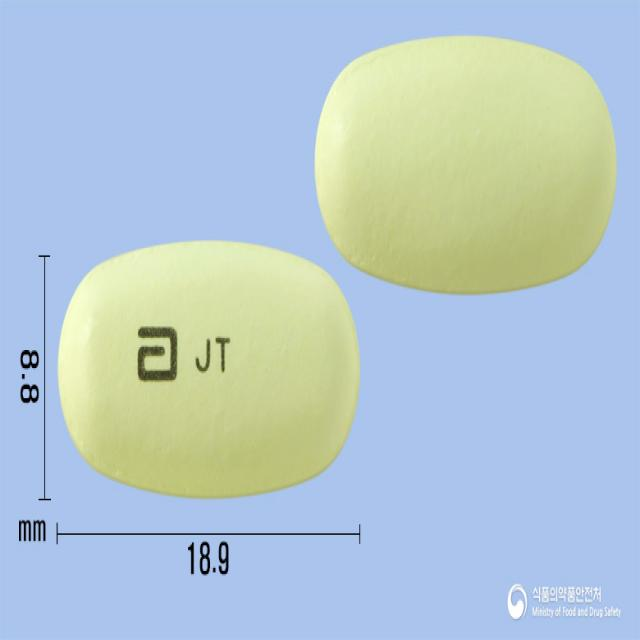Klaricid Film Coated: (56, 238, 362, 502)
